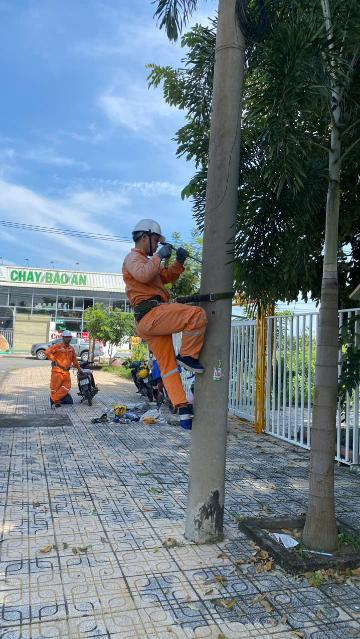gloves: (171, 243, 195, 264), (154, 243, 174, 263), (49, 360, 58, 369)
harness: (116, 290, 181, 322), (48, 364, 76, 374)
helmet: (125, 210, 175, 245), (60, 329, 74, 339)
shoes: (174, 349, 209, 377), (175, 401, 202, 427), (53, 402, 67, 413), (46, 396, 56, 411)
